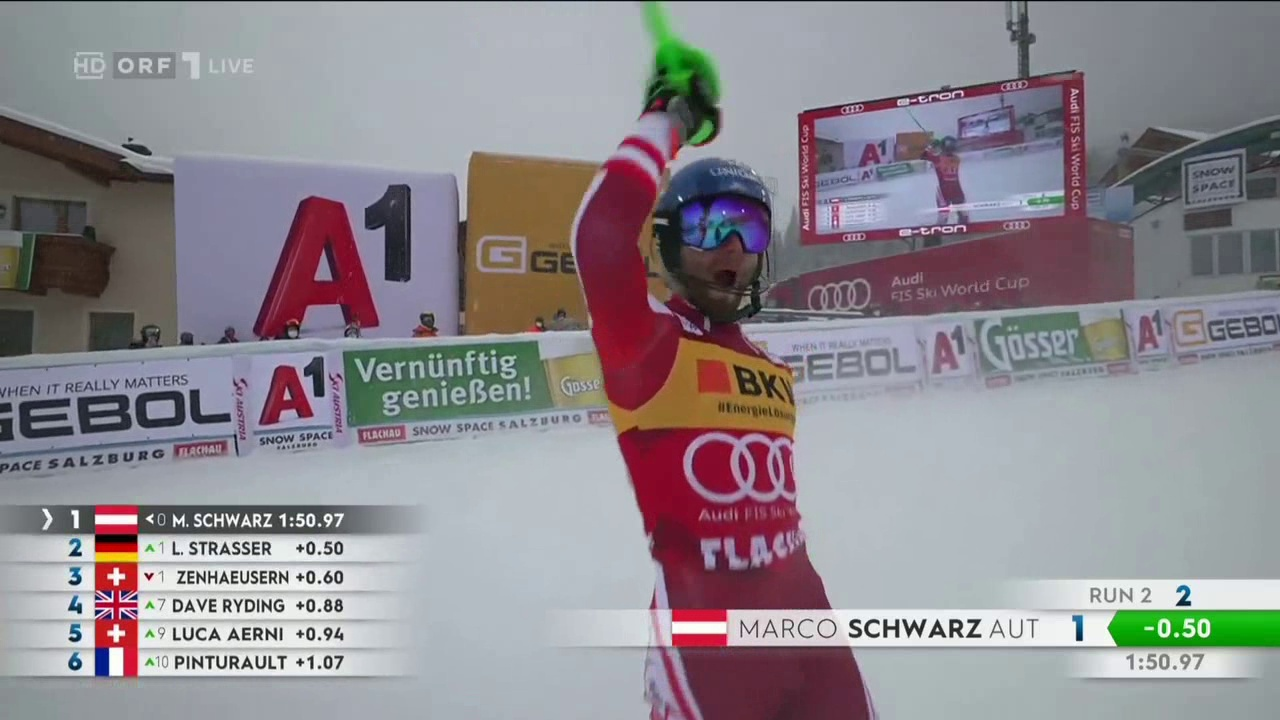a1: (261, 172, 415, 340), (255, 359, 334, 428), (919, 327, 976, 377), (1131, 314, 1171, 357), (859, 141, 898, 168)
audi: (689, 433, 802, 506), (805, 278, 874, 313), (1001, 221, 1035, 236), (840, 234, 875, 247), (1002, 81, 1034, 95)
etron: (895, 226, 961, 240)
gebol: (1185, 303, 1279, 354)
goesser: (987, 315, 1108, 375), (554, 366, 607, 401)
